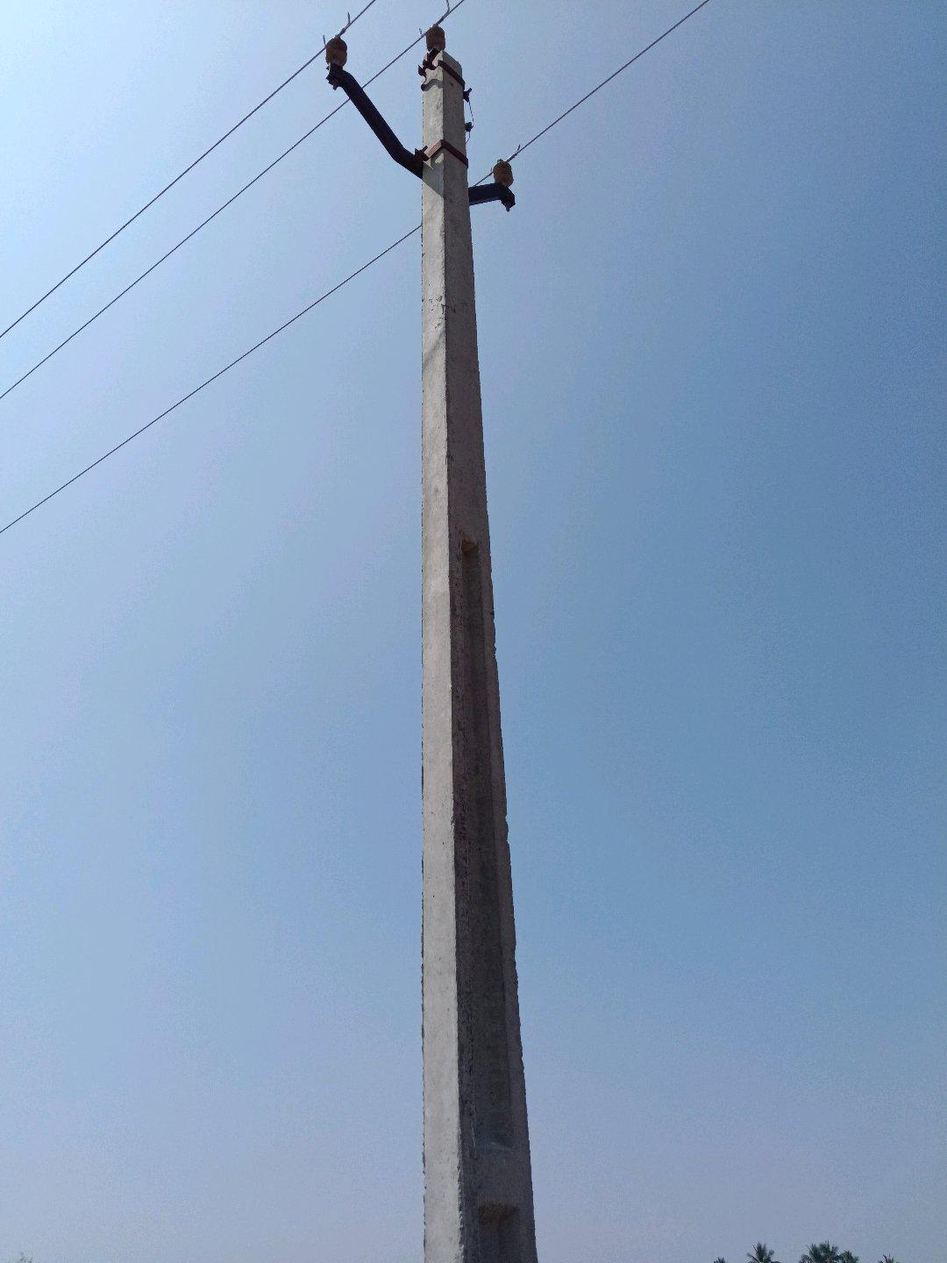{"0" "insulator", "1" "pole", "2" "crossarm", "3" "conductor", "4" "street_: (325, 27, 538, 1262), (569, 106, 574, 111), (555, 119, 561, 123), (548, 125, 551, 130), (585, 100, 587, 102)
